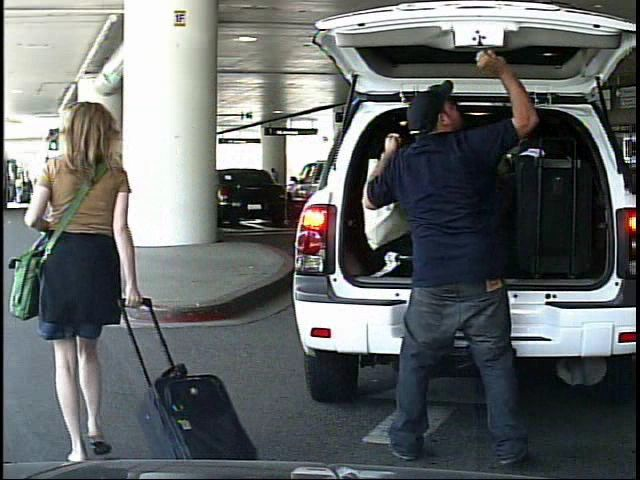person: (371, 20, 553, 479), (51, 99, 191, 446), (266, 165, 282, 203), (15, 173, 26, 204)
